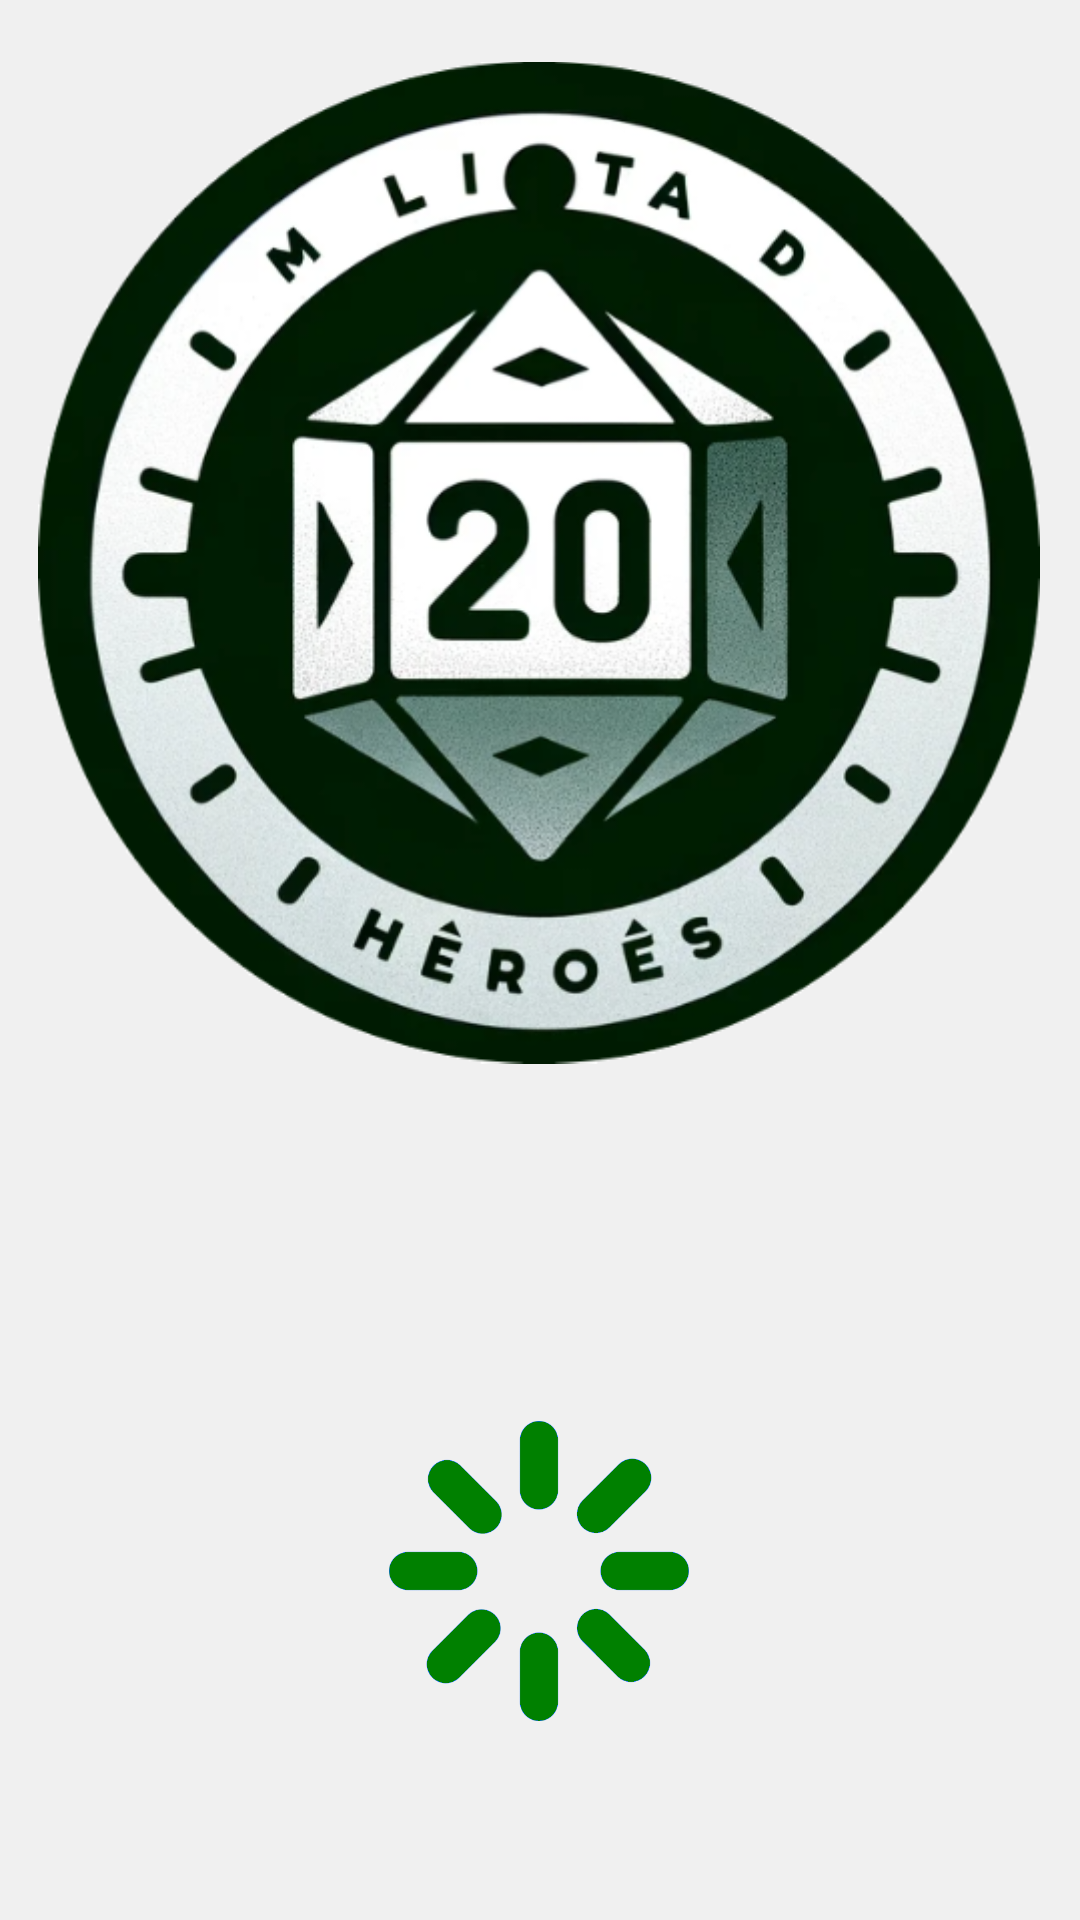

Locate icon controls on the screen. Image size 1080 × 1920, boxes as (x1, y1, x2, y2).
cargandoverde: (389, 1421, 689, 1721)
